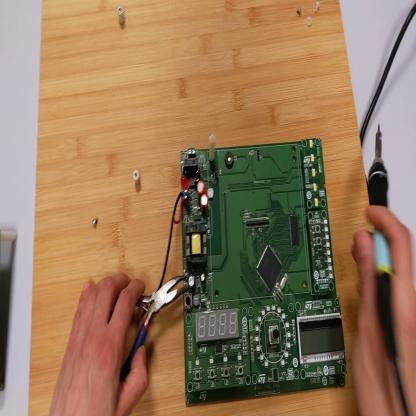hand: (49, 273, 149, 416), (352, 202, 416, 415)
low voltage board: (161, 131, 349, 404)
pliers: (122, 272, 193, 388)
welder probe tip: (371, 120, 395, 366)
working area: (29, 2, 375, 414)
